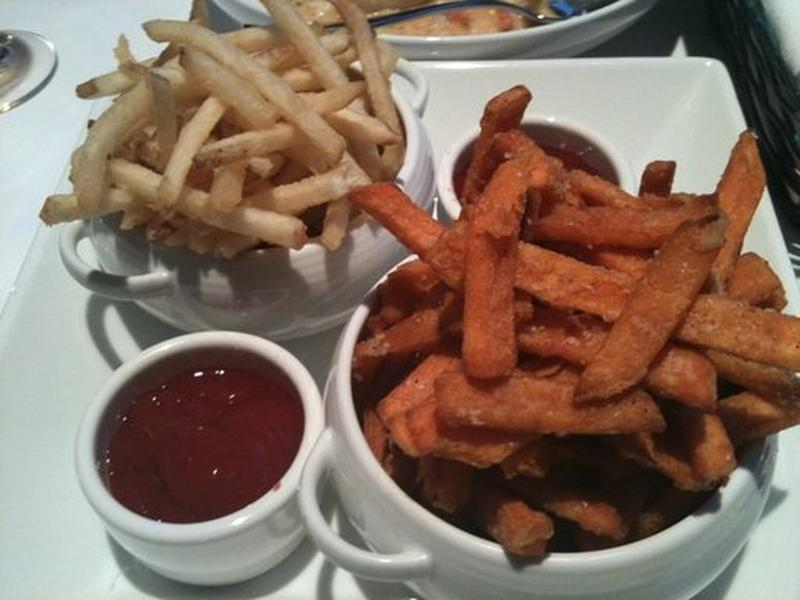french_fries: (41, 1, 785, 575)
